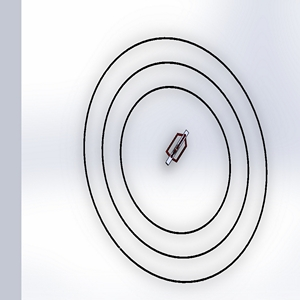circle: (79, 29, 268, 287)
submarine: (152, 124, 203, 180)
